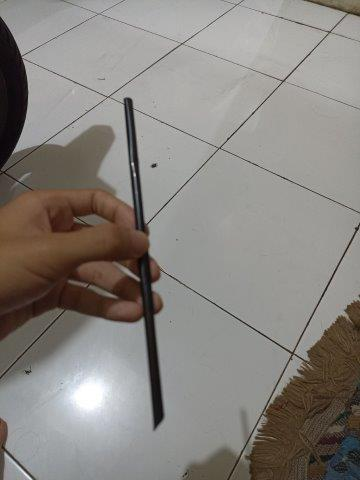sedotan: (124, 98, 166, 427)
